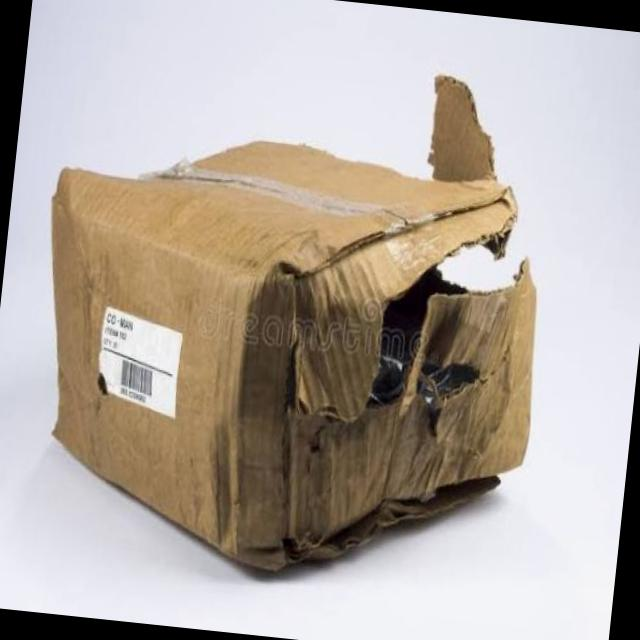package_damage: (243, 126, 563, 583)
